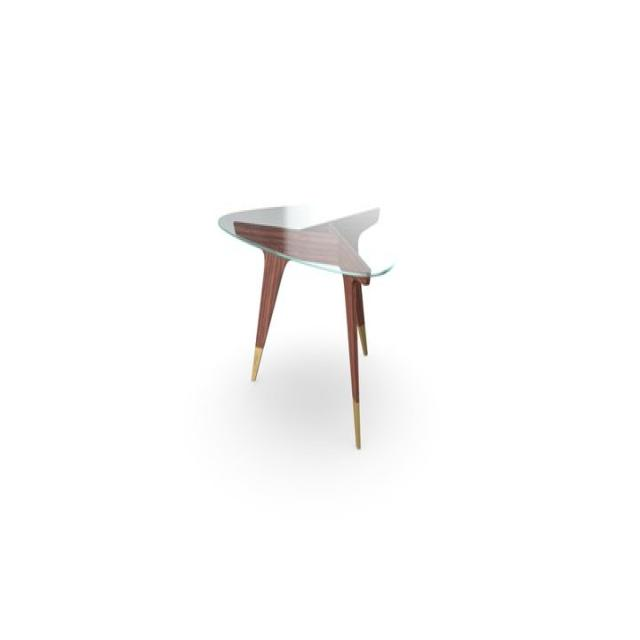table: (218, 200, 396, 451)
